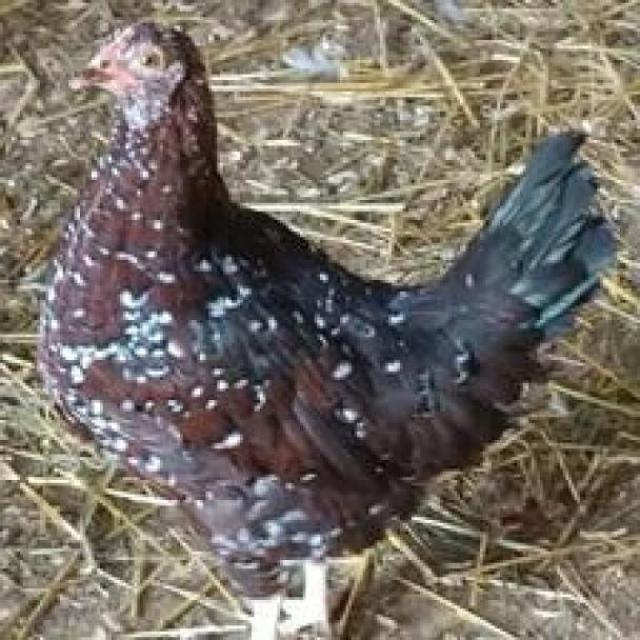Chicken: (43, 14, 636, 640)
